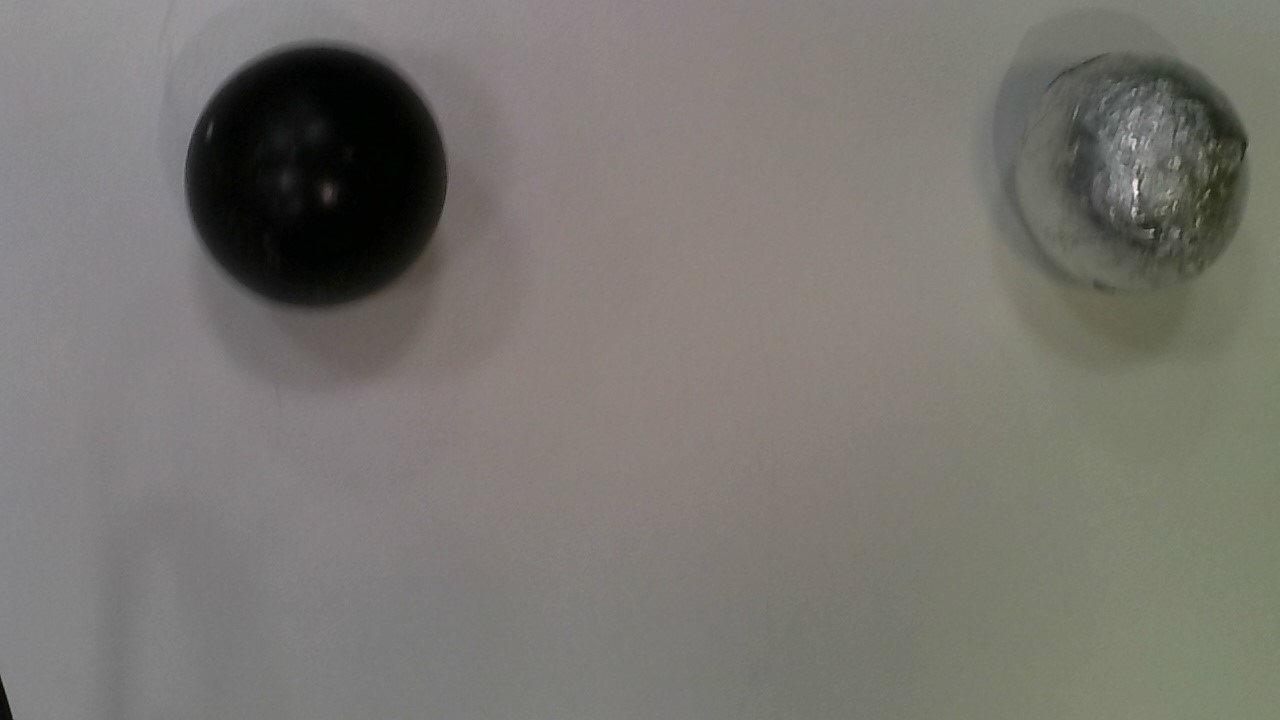black_ball: (173, 38, 459, 312)
silver_ball: (1002, 42, 1256, 304)
